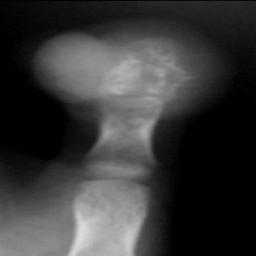cancer: (93, 37, 182, 124)
